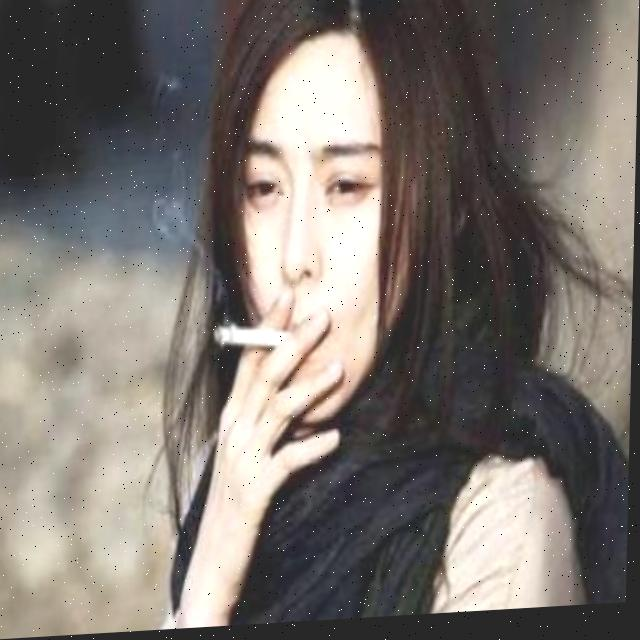cigarette: (215, 324, 293, 354)
